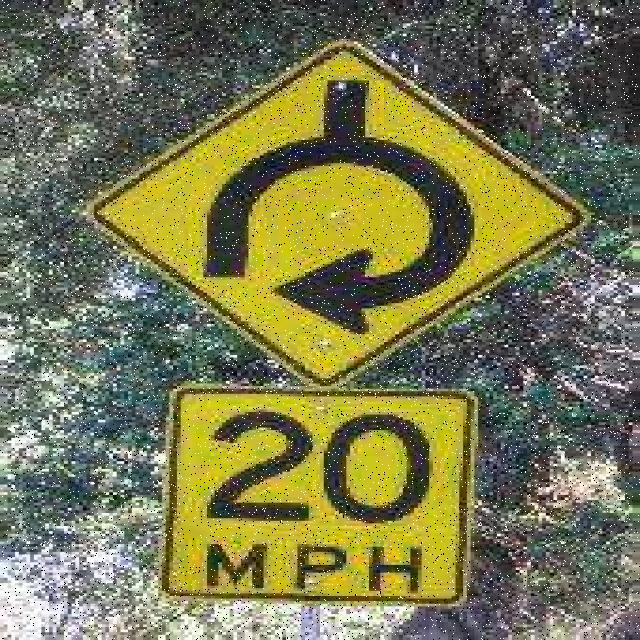Uturn: (88, 42, 586, 374)
